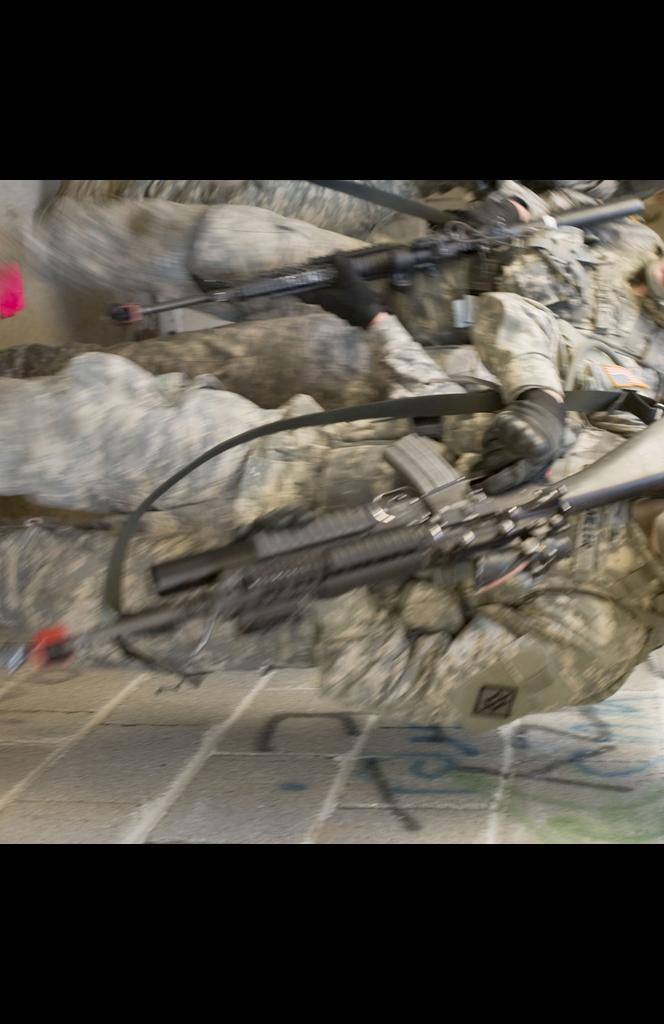gun: (25, 432, 550, 676), (121, 204, 510, 322)
